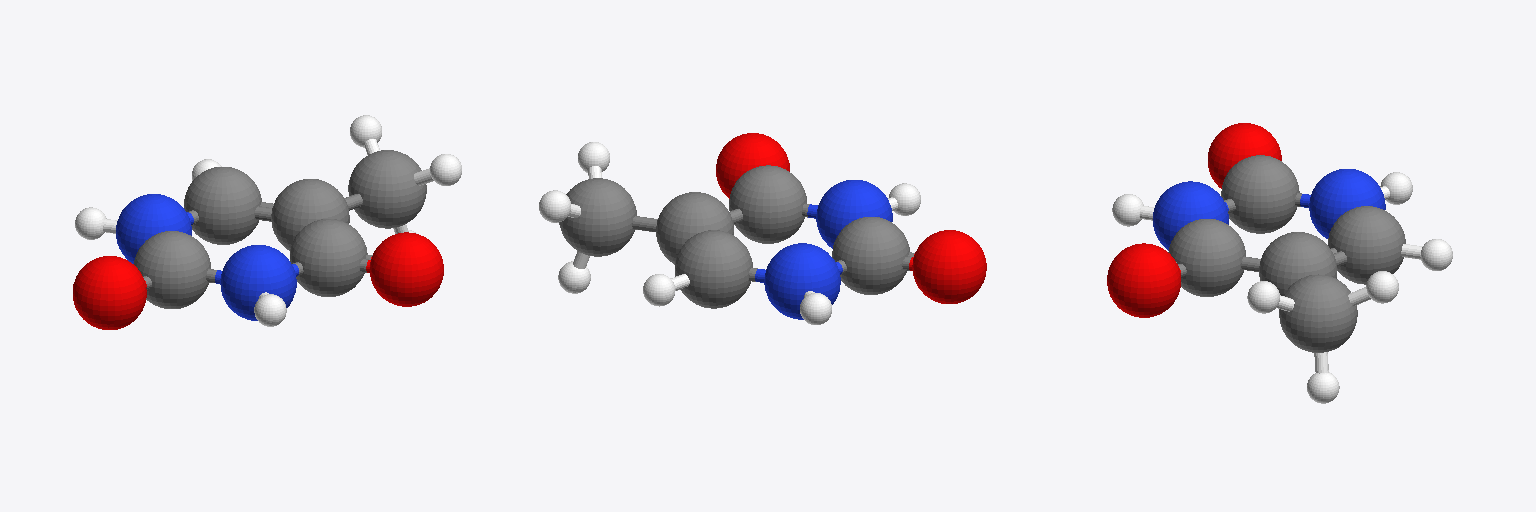
Rendered from Thymine.obj.
3 views of the same model, side by side, from view 1: azimuth 30°, elevation 25°; view 2: azimuth 150°, elevation 25°; view 3: azimuth 270°, elevation 25° (orthographic).
Visible parts, largest first — view 1: Carbon_ball.010, Oxygen_ball.008, Nitrogen_ball.005, Hydrogen_ball.010, Carbon_sticks_cylinder.010, Hydrogen_sticks_cylinder.010; view 2: Carbon_ball.010, Nitrogen_ball.005, Oxygen_ball.008, Hydrogen_ball.010, Hydrogen_sticks_cylinder.010, Carbon_sticks_cylinder.010; view 3: Carbon_ball.010, Oxygen_ball.008, Nitrogen_ball.005, Hydrogen_ball.010, Hydrogen_sticks_cylinder.010, Carbon_sticks_cylinder.010.
Boxes of the visible parts, x1,y1,x2,y2 form: Carbon_ball.010: [134, 150, 426, 308]; Oxygen_ball.008: [73, 232, 443, 329]; Nitrogen_ball.005: [116, 194, 296, 320]; Hydrogen_ball.010: [75, 115, 461, 326]; Carbon_sticks_cylinder.010: [143, 194, 372, 289]; Hydrogen_sticks_cylinder.010: [103, 139, 433, 297]; Carbon_ball.010: [559, 165, 909, 308]; Nitrogen_ball.005: [764, 180, 892, 319]; Oxygen_ball.008: [716, 133, 986, 303]; Hydrogen_ball.010: [539, 142, 920, 324]; Hydrogen_sticks_cylinder.010: [568, 166, 897, 297]; Carbon_sticks_cylinder.010: [632, 203, 914, 281]; Carbon_ball.010: [1168, 155, 1405, 352]; Oxygen_ball.008: [1107, 123, 1281, 317]; Nitrogen_ball.005: [1153, 169, 1385, 250]; Hydrogen_ball.010: [1112, 172, 1452, 403]; Hydrogen_sticks_cylinder.010: [1140, 186, 1422, 373]; Carbon_sticks_cylinder.010: [1176, 193, 1346, 276].
Bounding box in the file's own units: 6.65 × 2.02 × 5.08.